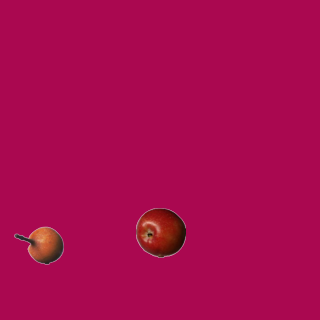Apple Braeburn: (135, 207, 185, 257)
Granadilla: (13, 220, 63, 270)
